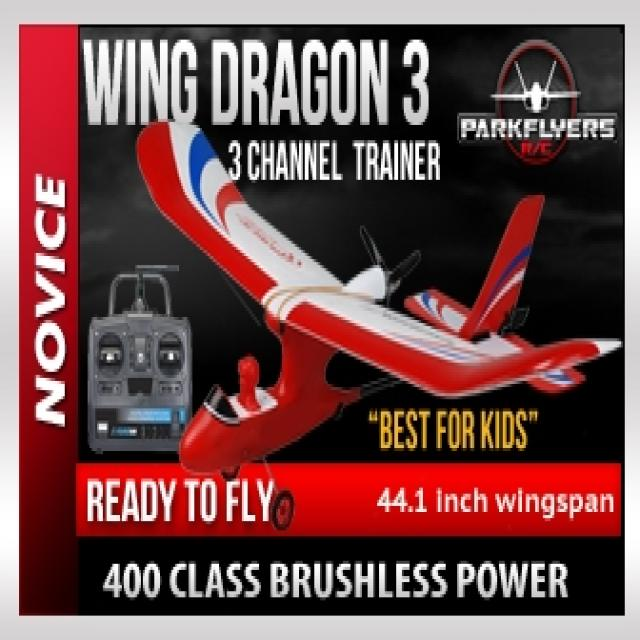iha: (135, 119, 619, 527)
